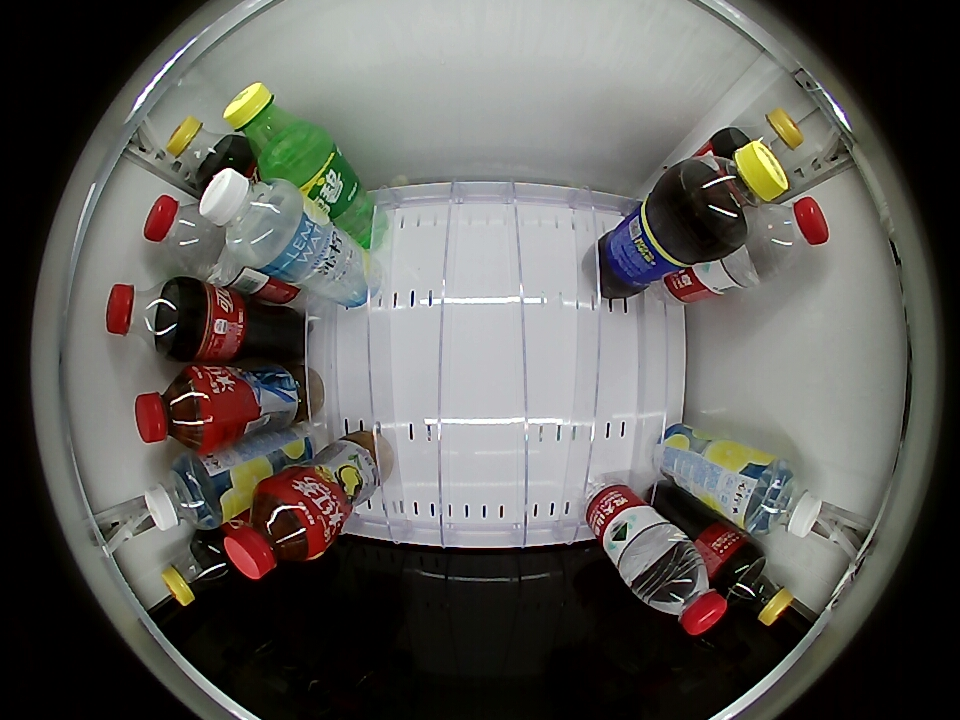baishikele: (678, 137, 789, 241)
binghongcha: (224, 479, 329, 580), (134, 368, 220, 451)
kele-b: (106, 279, 184, 355)
kele-b-2: (721, 551, 795, 626), (164, 115, 240, 187), (161, 533, 233, 606), (740, 109, 804, 164)
nongfushanquan: (636, 544, 728, 636), (747, 196, 829, 276), (143, 194, 219, 271)
qinningshui: (199, 167, 308, 271), (738, 459, 823, 539), (144, 455, 227, 532)
xuebi-b: (223, 81, 316, 172)
